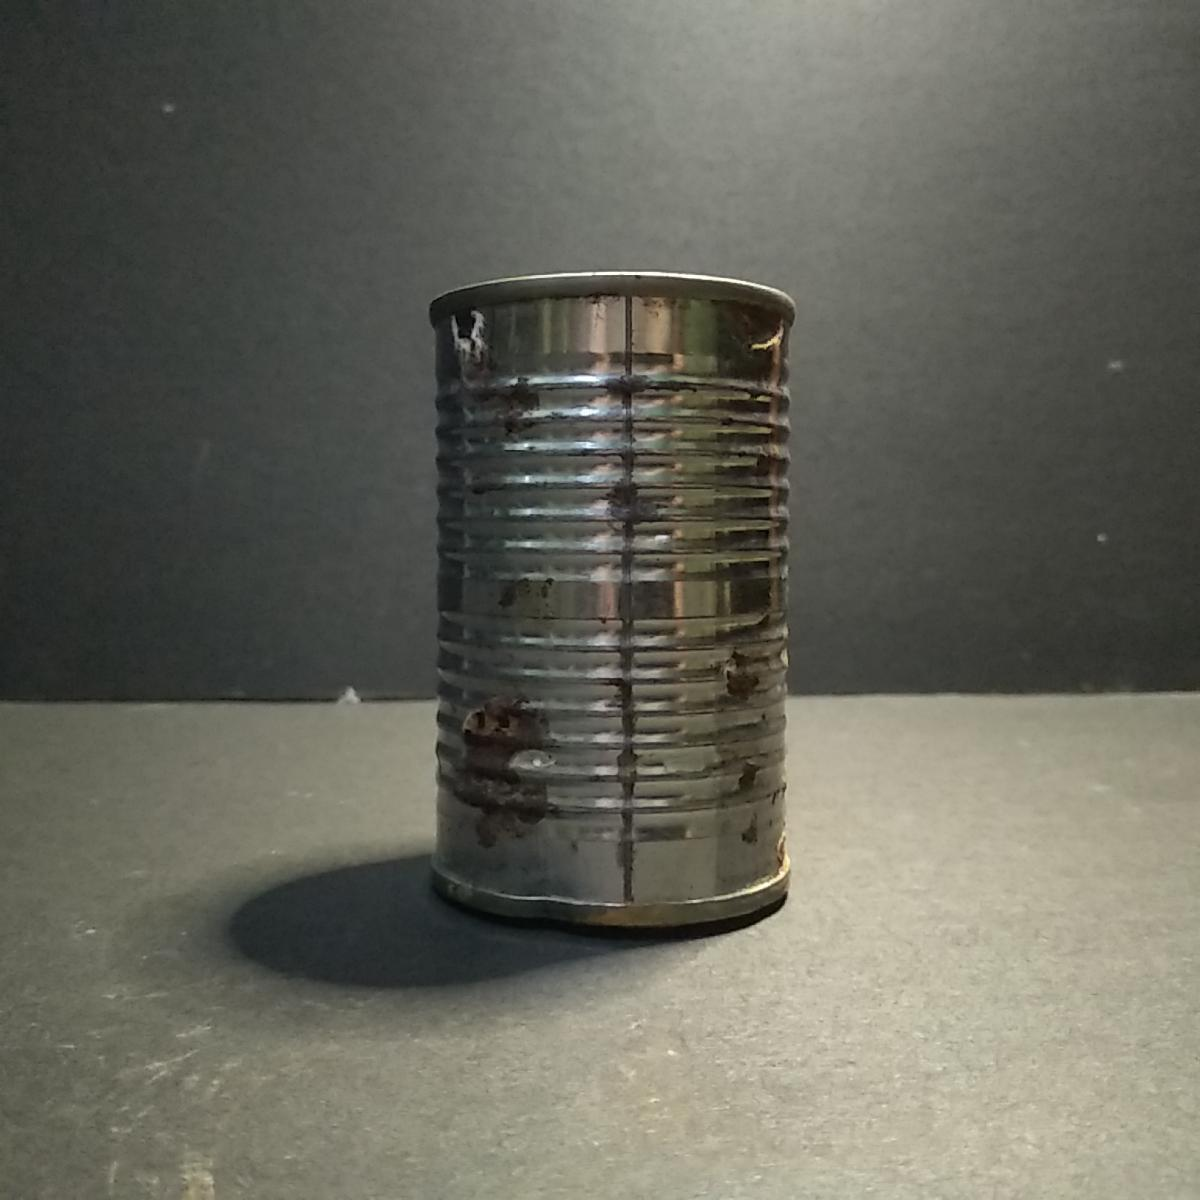Rusted: (420, 258, 812, 949)
